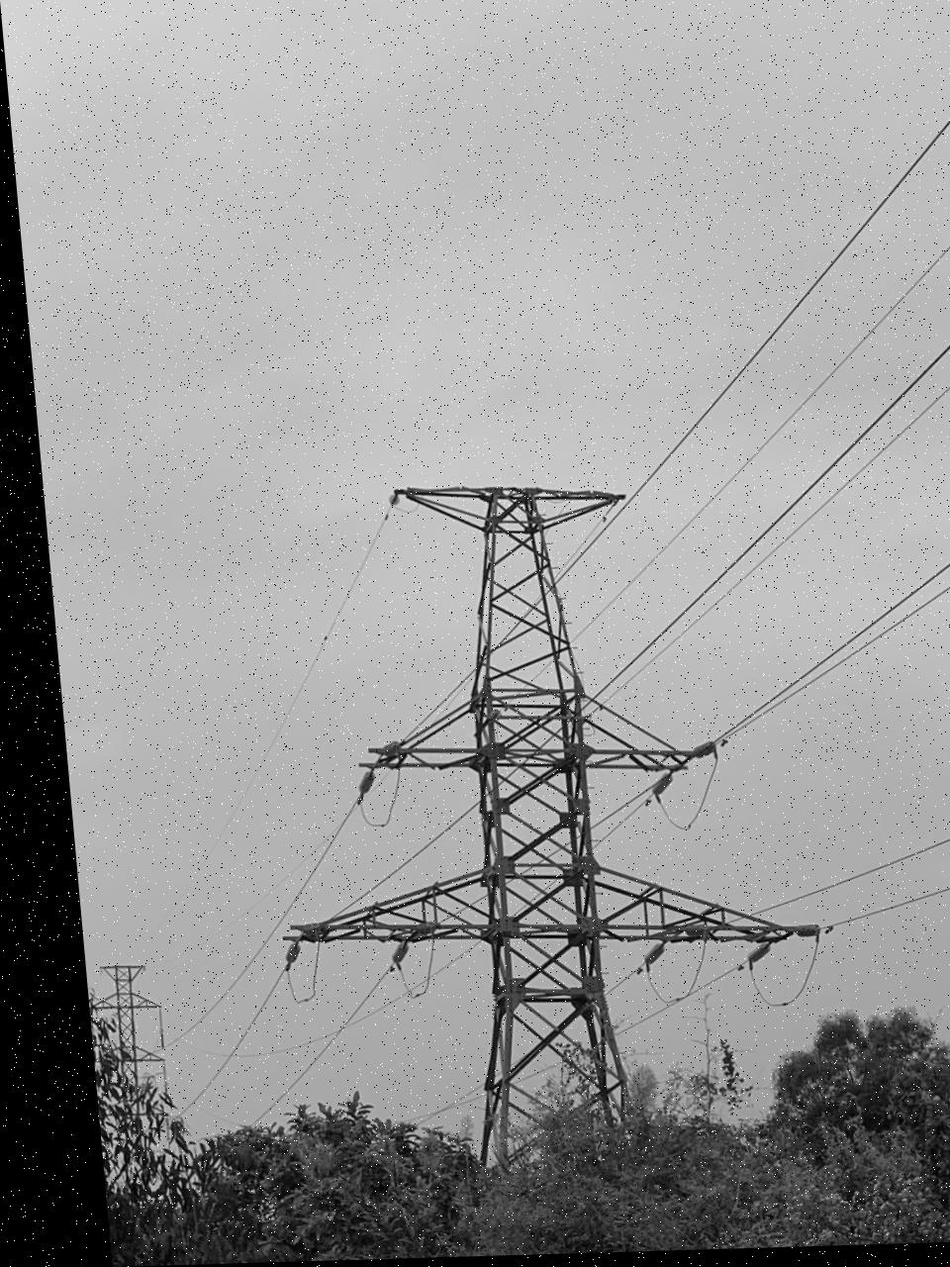tower: (244, 464, 856, 1257)
